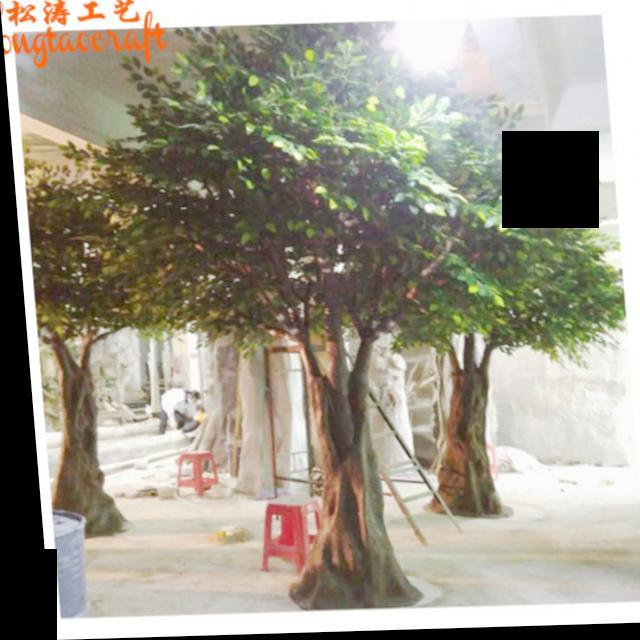Tree: (58, 22, 640, 615), (391, 209, 635, 528), (20, 165, 180, 542)
